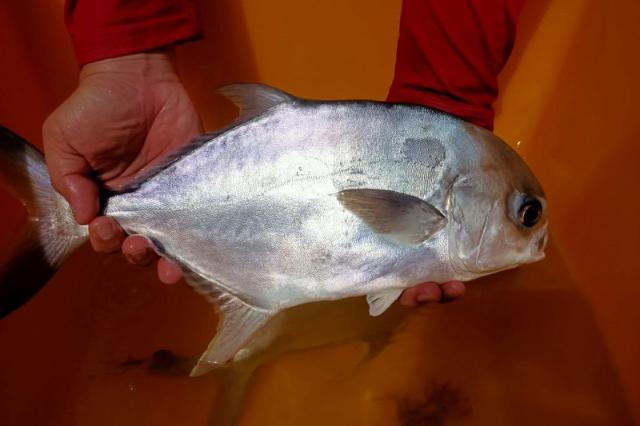Mulut: (508, 209, 572, 275)
Sirip Anal: (121, 218, 293, 396)
Sirip Dada: (325, 170, 455, 258)
Sirip Ekor: (0, 107, 100, 356)
Sirip Perut: (353, 276, 413, 328)
Sirip Punggung: (100, 67, 314, 204)
